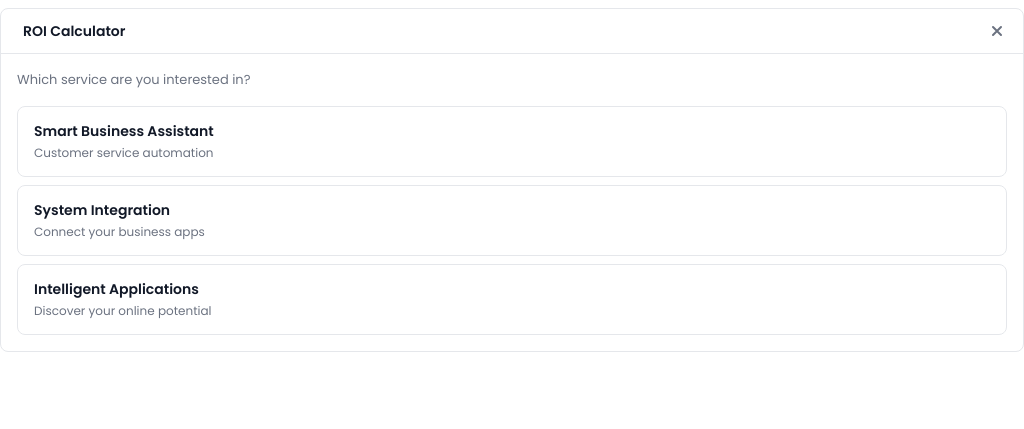
Scenario: ROICalculatorForm › Validation › should validate team size minimum
Select Service
Click the button "Smart Business Assistant Customer service automation" at (124, 130), box x1=17 y1=106 x2=1007 y2=176
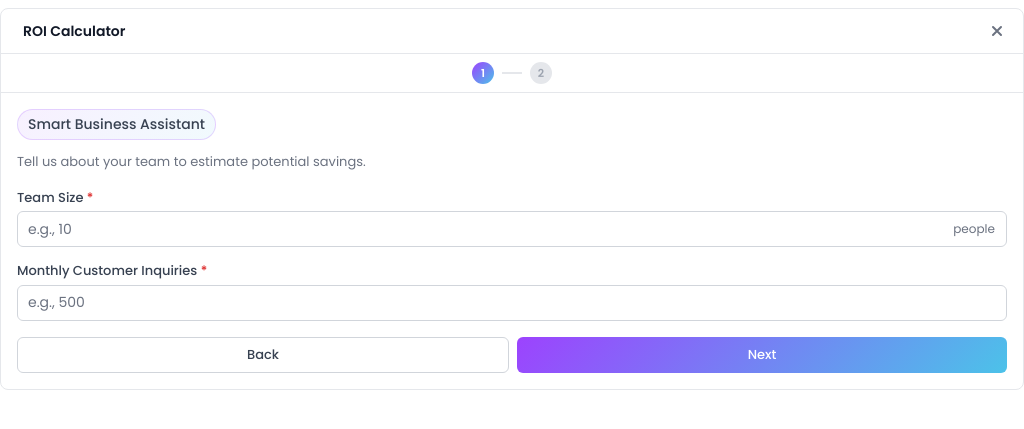
Type "0" into the number field labelled "Team Size" at (512, 229), box x1=17 y1=211 x2=1007 y2=247
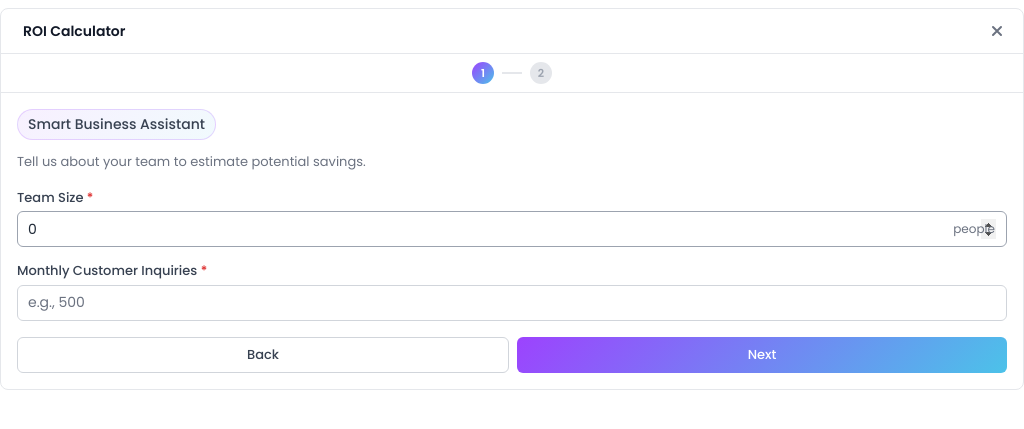
Leave the number field labelled "Team Size", box x1=17 y1=211 x2=1007 y2=247
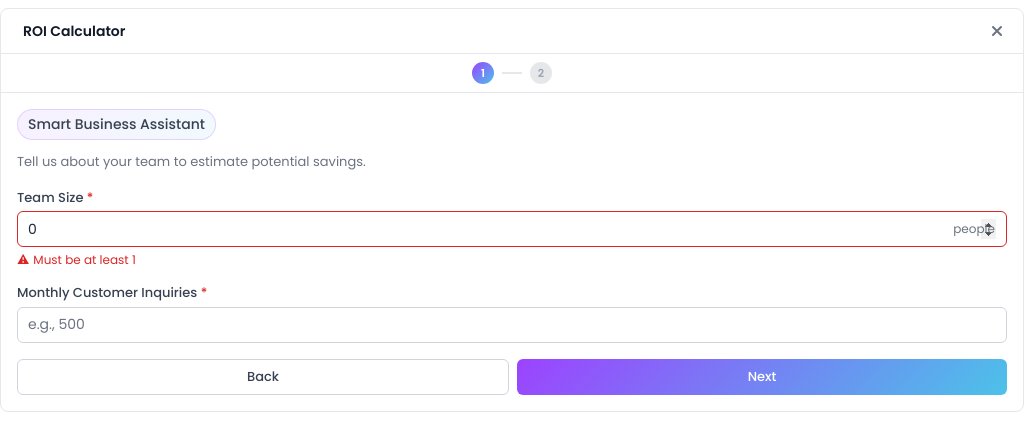
Now the text "⚠ Must be at least 1" is shown, box x1=17 y1=251 x2=136 y2=268
